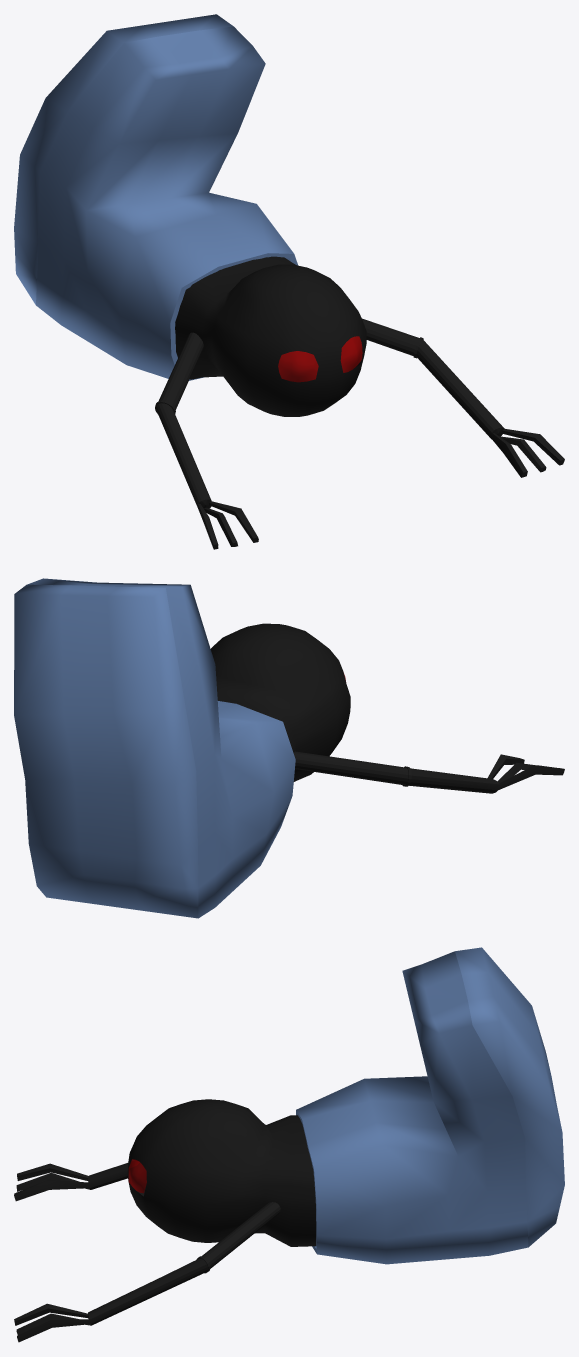
File: Gail.fbx
The picture shows the model from 3 angles, top to bottom: view 1: azimuth 30°, elevation 25°; view 2: azimuth 150°, elevation 25°; view 3: azimuth 270°, elevation 25°; orthographic projection. The views are drawn at different scales.
Parts seen in each view (by area): view 1: polySurface9, polySurface1, polySurface8, polySurface7, polySurface6, polySurface2; view 2: polySurface8, polySurface9, polySurface1, polySurface6; view 3: polySurface9, polySurface1, polySurface8, polySurface7, polySurface6, polySurface3.
Part boxes in pixels (left/top/right/bottom): polySurface9: left=36, top=26, right=298, bottom=380; polySurface1: left=175, top=256, right=366, bottom=416; polySurface8: left=14, top=14, right=233, bottom=304; polySurface7: left=362, top=318, right=564, bottom=477; polySurface6: left=155, top=332, right=258, bottom=549; polySurface2: left=278, top=351, right=318, bottom=382; polySurface8: left=14, top=584, right=198, bottom=918; polySurface9: left=27, top=578, right=295, bottom=918; polySurface1: left=210, top=623, right=350, bottom=781; polySurface6: left=294, top=751, right=564, bottom=793; polySurface9: left=296, top=951, right=528, bottom=1264; polySurface1: left=127, top=1099, right=316, bottom=1246; polySurface8: left=455, top=947, right=564, bottom=1247; polySurface7: left=14, top=1202, right=280, bottom=1342; polySurface6: left=14, top=1163, right=127, bottom=1201; polySurface3: left=128, top=1159, right=146, bottom=1193.
Bounding box in the file's own units: 4.76 × 4.02 × 6.75.
